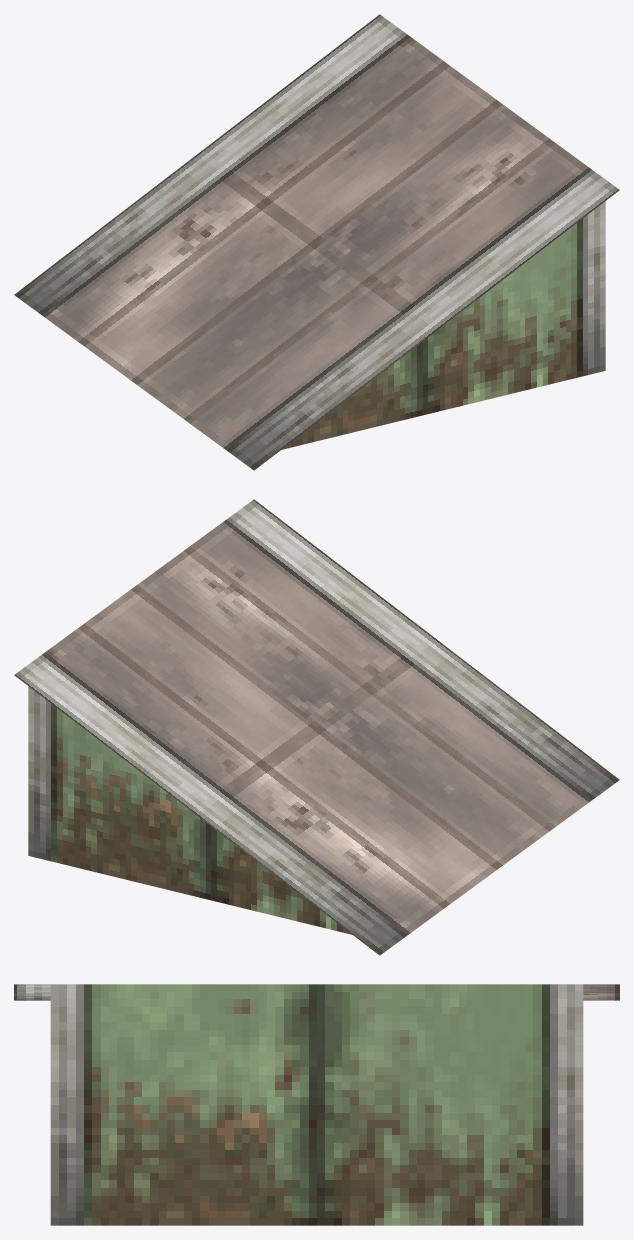
The model's file is wall-b-roof-slant-detailed.glb.
3 renders of one model, top to bottom at view 1: azimuth 30°, elevation 25°; view 2: azimuth 150°, elevation 25°; view 3: azimuth 270°, elevation 25°, orthographic. The views are drawn at different scales.
Parts seen in each view (by area): view 1: wall-b-roof-slant-detailed; view 2: wall-b-roof-slant-detailed; view 3: wall-b-roof-slant-detailed.
Part boxes in pixels (x1,y1,x2,y2): wall-b-roof-slant-detailed: [14, 14, 619, 470]; wall-b-roof-slant-detailed: [14, 499, 619, 955]; wall-b-roof-slant-detailed: [14, 984, 619, 1225].
Bounding box in the file's own units: 1 × 0.5 × 1.14.
Materials: 3 (3 with a texture image).
